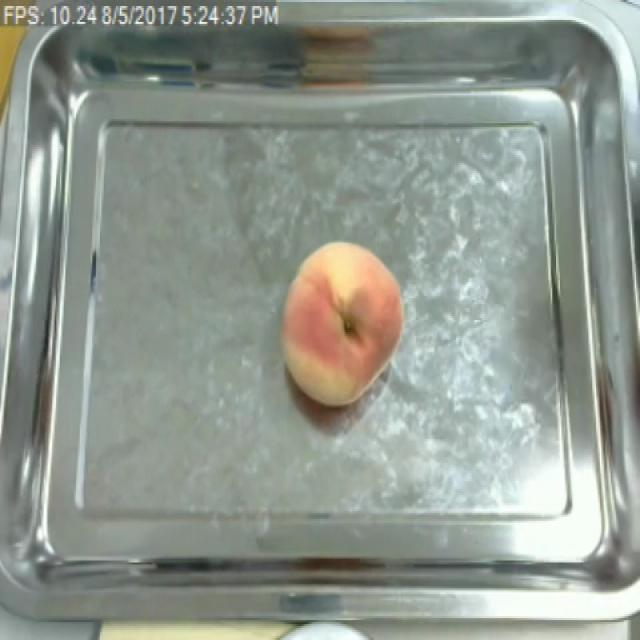Fruit: (271, 234, 412, 413)
